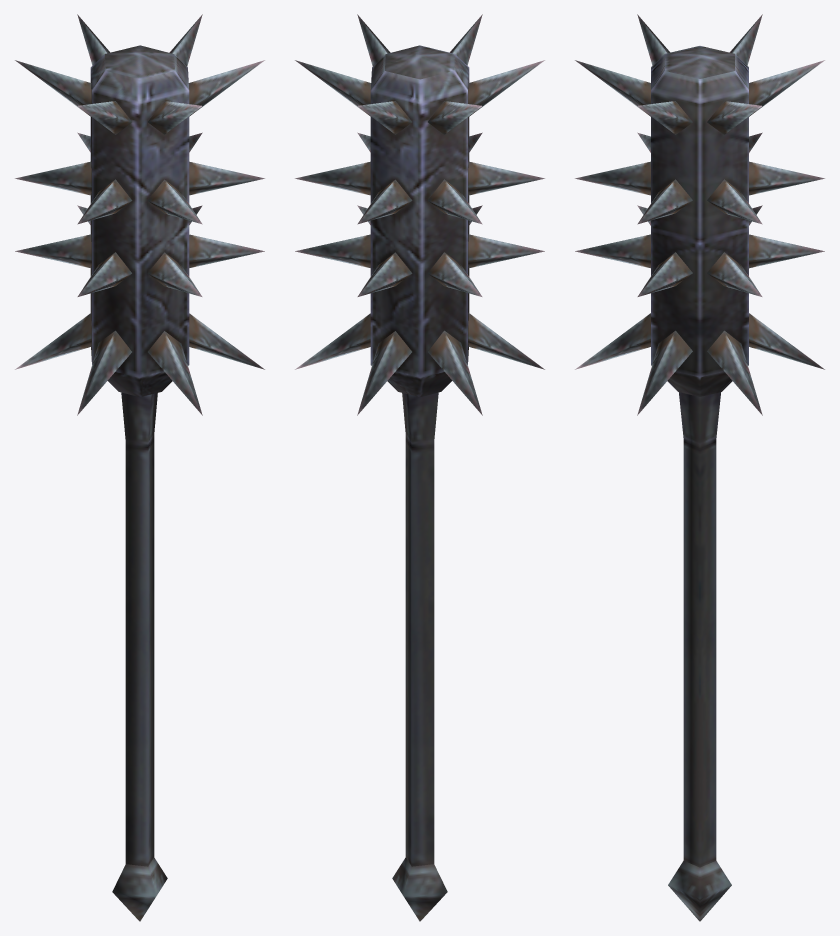
File: TH_Mace05.FBX
3 renders of one model, left to right at view 1: azimuth 30°, elevation 25°; view 2: azimuth 150°, elevation 25°; view 3: azimuth 270°, elevation 25°, orthographic.
Parts seen in each view (by area): view 1: TH_Mace05; view 2: TH_Mace05; view 3: TH_Mace05.
Boxes of the visible parts, x1=… form: TH_Mace05: x1=15, y1=14, x2=264, y2=921; TH_Mace05: x1=295, y1=14, x2=544, y2=921; TH_Mace05: x1=575, y1=14, x2=824, y2=921.
Bounding box in the file's own units: 27.74 × 122 × 32.03.
